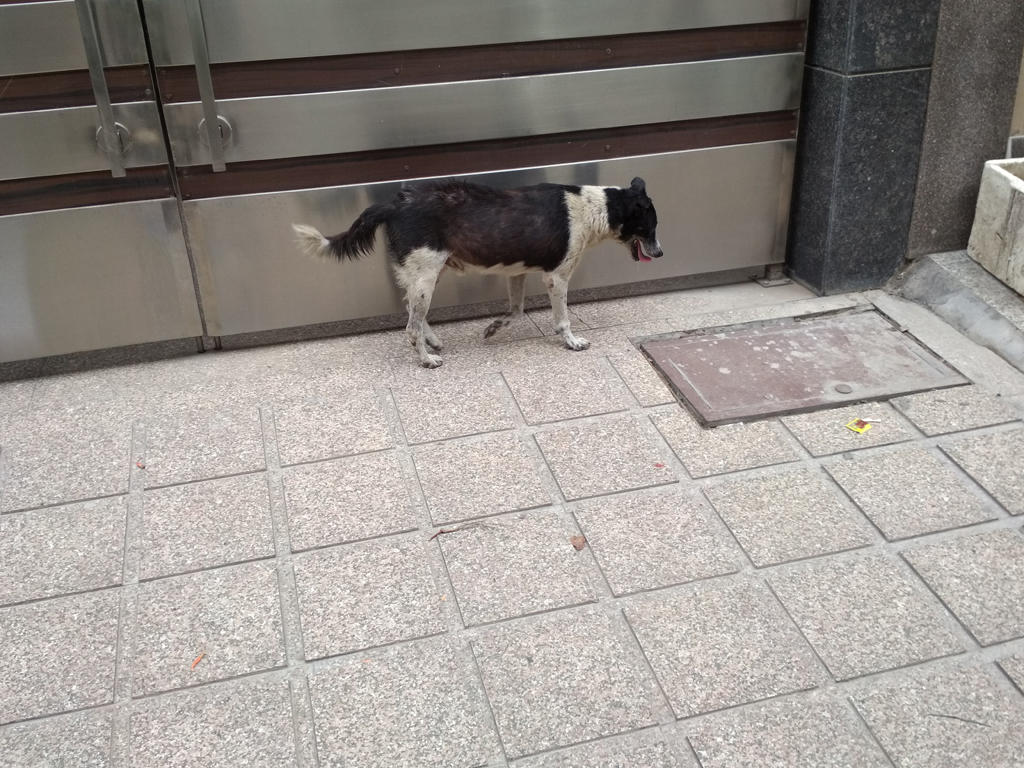dog: (291, 176, 661, 368)
